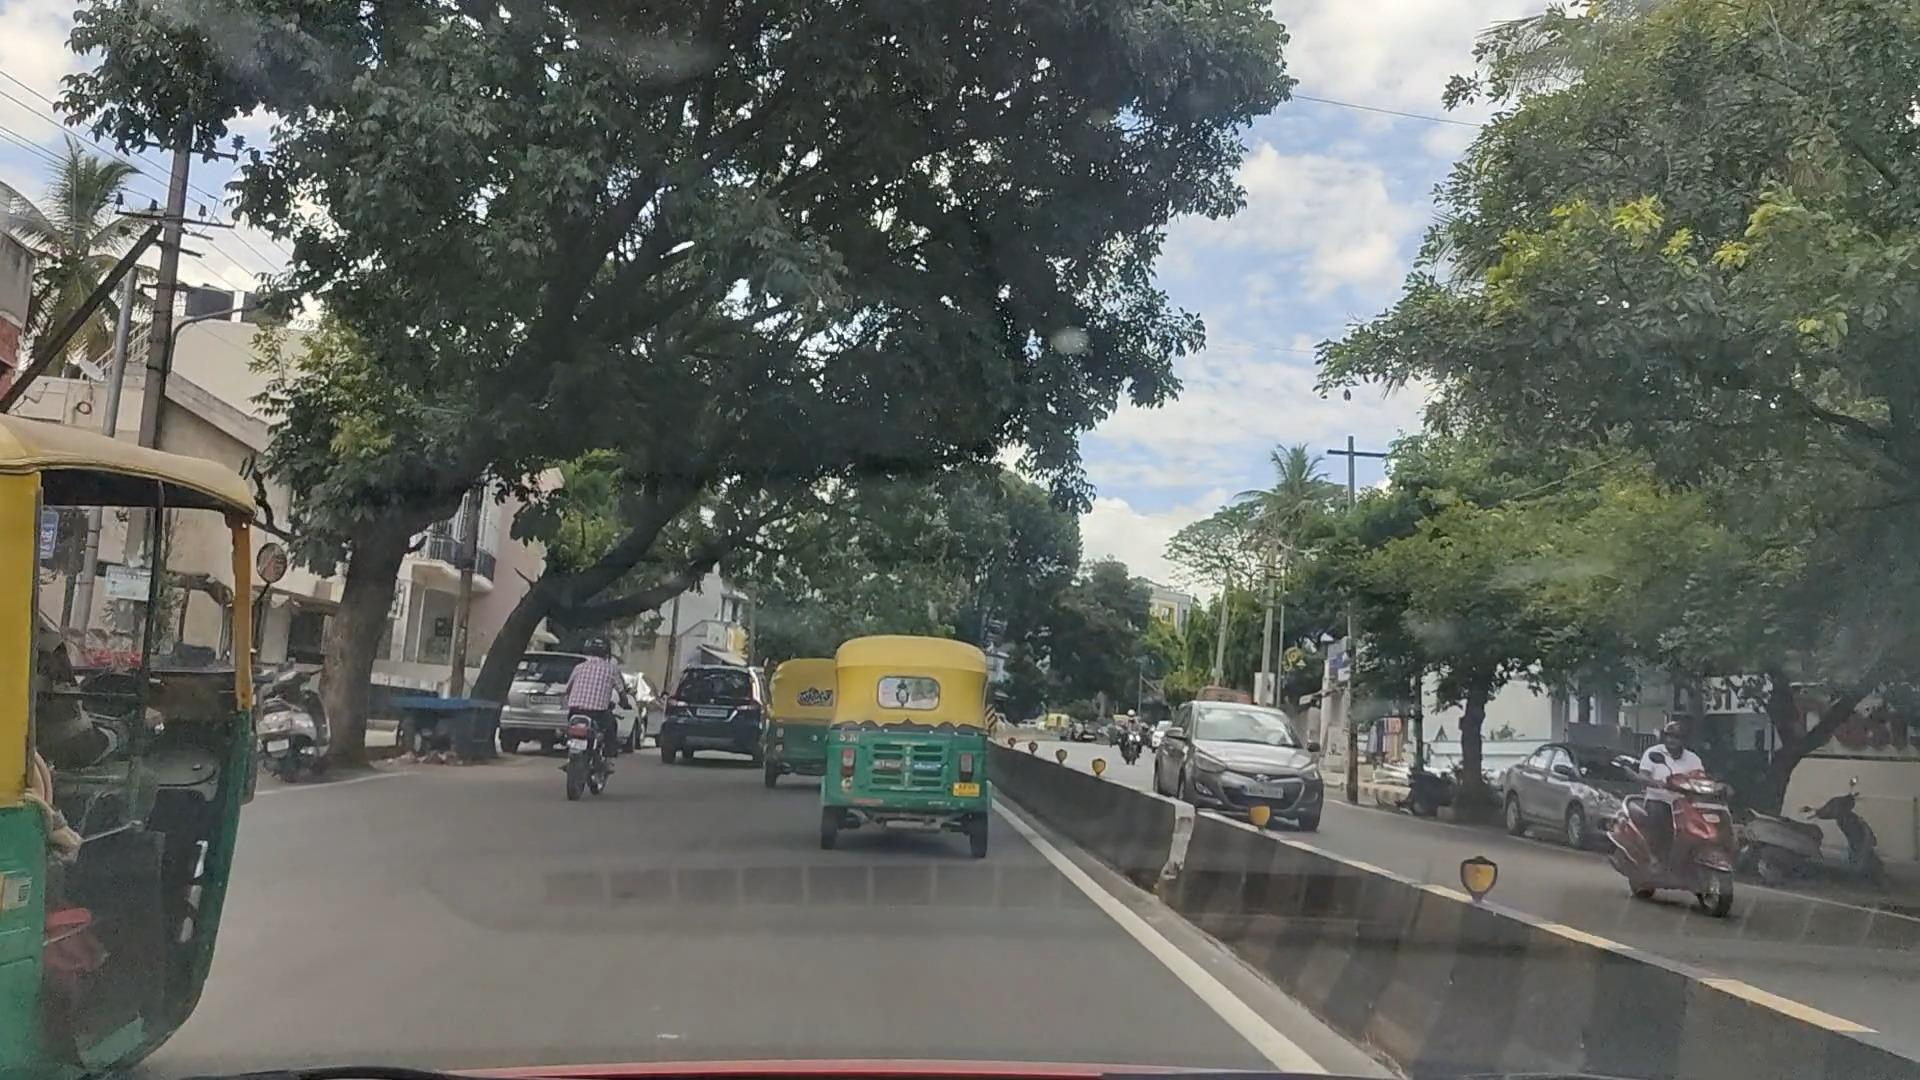LMV: (3, 418, 240, 1076), (828, 633, 985, 855), (555, 638, 641, 806), (670, 653, 761, 773), (770, 653, 841, 785)
